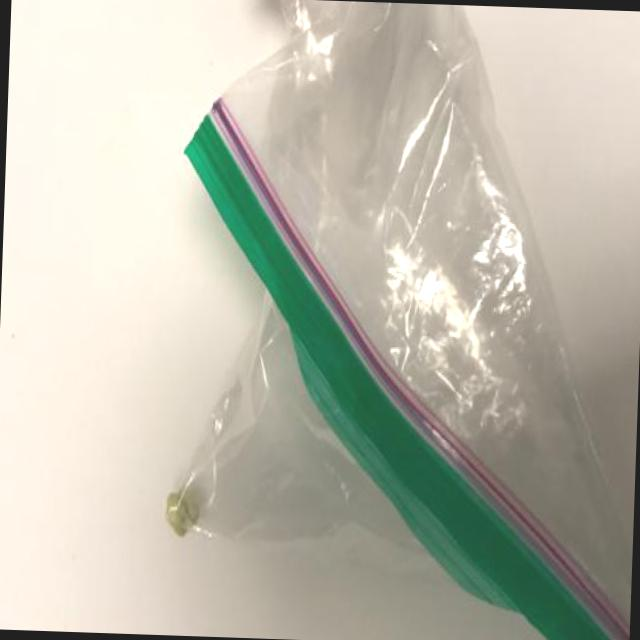tui_ni_long: (161, 0, 632, 640)
